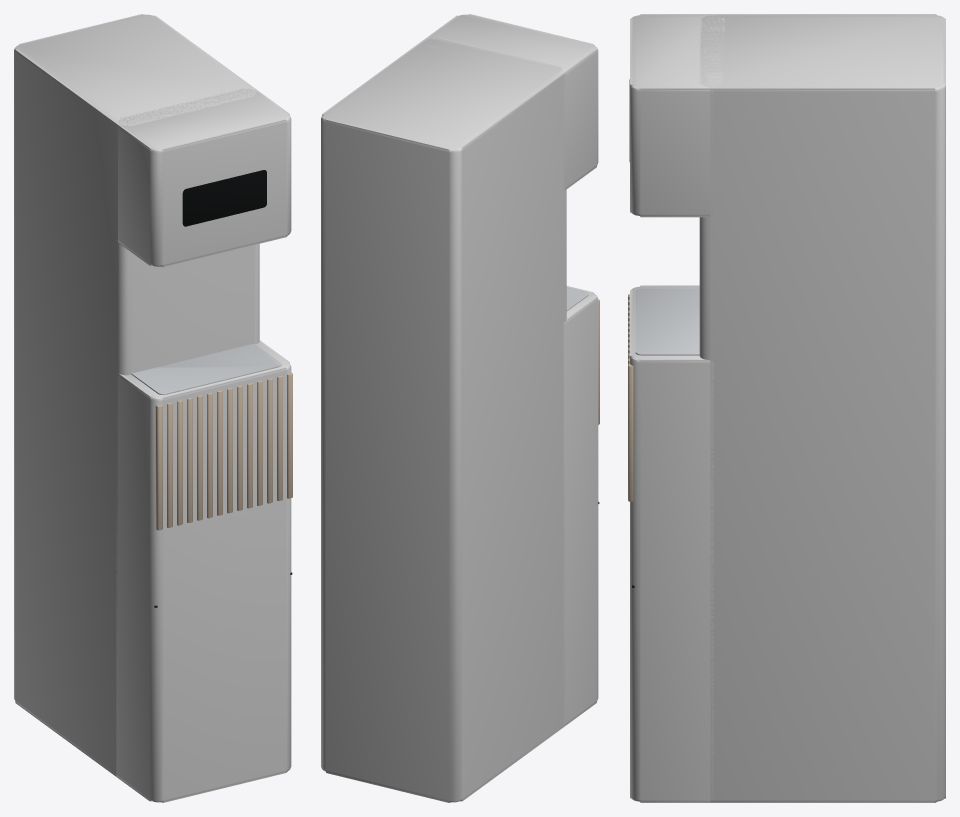
The picture shows the model from 3 angles, left to right: view 1: azimuth 30°, elevation 25°; view 2: azimuth 150°, elevation 25°; view 3: azimuth 270°, elevation 25°; orthographic projection. The views are drawn at different scales.
Parts seen in each view (by area): view 1: WS511SH; view 2: WS511SH; view 3: WS511SH.
Part boxes in pixels (x1,y1,x2,y2): WS511SH: [14, 14, 292, 802]; WS511SH: [321, 14, 599, 802]; WS511SH: [628, 14, 945, 802].
Bounding box in the file's own units: 0.26 × 1.16 × 0.467.
